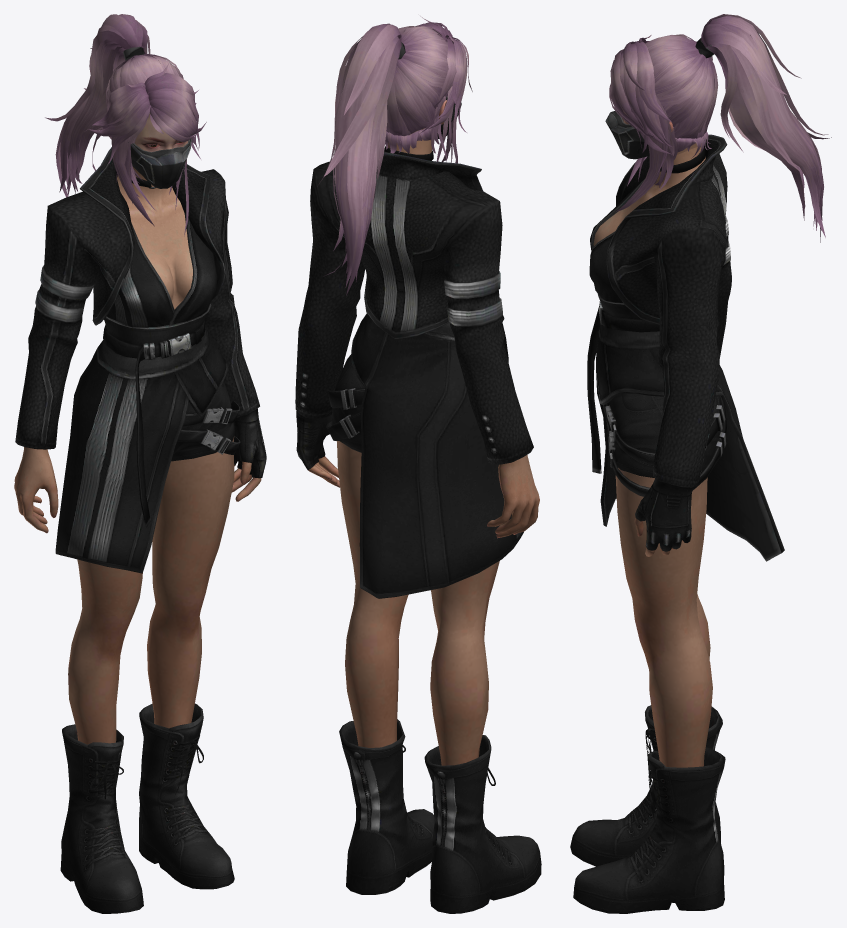
Rendered from player.gltf.
3 renders of one model, left to right at view 1: azimuth 30°, elevation 25°; view 2: azimuth 150°, elevation 25°; view 3: azimuth 270°, elevation 25°, orthographic. The views are drawn at different scales.
Visible parts, largest first — view 1: Mesh_0022.rip, Mesh_0014.rip, Mesh_0020.rip, Mesh_0031.rip, Mesh_0021.rip, Mesh_0018.rip; view 2: Mesh_0022.rip, Mesh_0014.rip, Mesh_0020.rip, Mesh_0031.rip, Mesh_0021.rip; view 3: Mesh_0022.rip, Mesh_0031.rip, Mesh_0020.rip, Mesh_0014.rip, Mesh_0021.rip, Mesh_0018.rip.
Boxes of the visible parts, left/top/right/bottom form: Mesh_0022.rip: left=15, top=147, right=266, bottom=573; Mesh_0014.rip: left=14, top=113, right=261, bottom=744; Mesh_0020.rip: left=60, top=703, right=234, bottom=913; Mesh_0031.rip: left=45, top=14, right=206, bottom=236; Mesh_0021.rip: left=171, top=381, right=240, bottom=461; Mesh_0018.rip: left=123, top=46, right=191, bottom=188; Mesh_0022.rip: left=295, top=146, right=533, bottom=598; Mesh_0014.rip: left=308, top=100, right=539, bottom=765; Mesh_0020.rip: left=339, top=719, right=541, bottom=913; Mesh_0031.rip: left=317, top=16, right=472, bottom=295; Mesh_0021.rip: left=326, top=354, right=364, bottom=452; Mesh_0022.rip: left=587, top=134, right=784, bottom=561; Mesh_0031.rip: left=609, top=14, right=831, bottom=242; Mesh_0020.rip: left=570, top=705, right=725, bottom=913; Mesh_0014.rip: left=593, top=96, right=712, bottom=767; Mesh_0021.rip: left=603, top=393, right=726, bottom=496; Mesh_0018.rip: left=605, top=38, right=713, bottom=159.
Size of the model in its own units: 0.2657 by 0.9077 by 0.2464.
6 materials, 6 textured.
